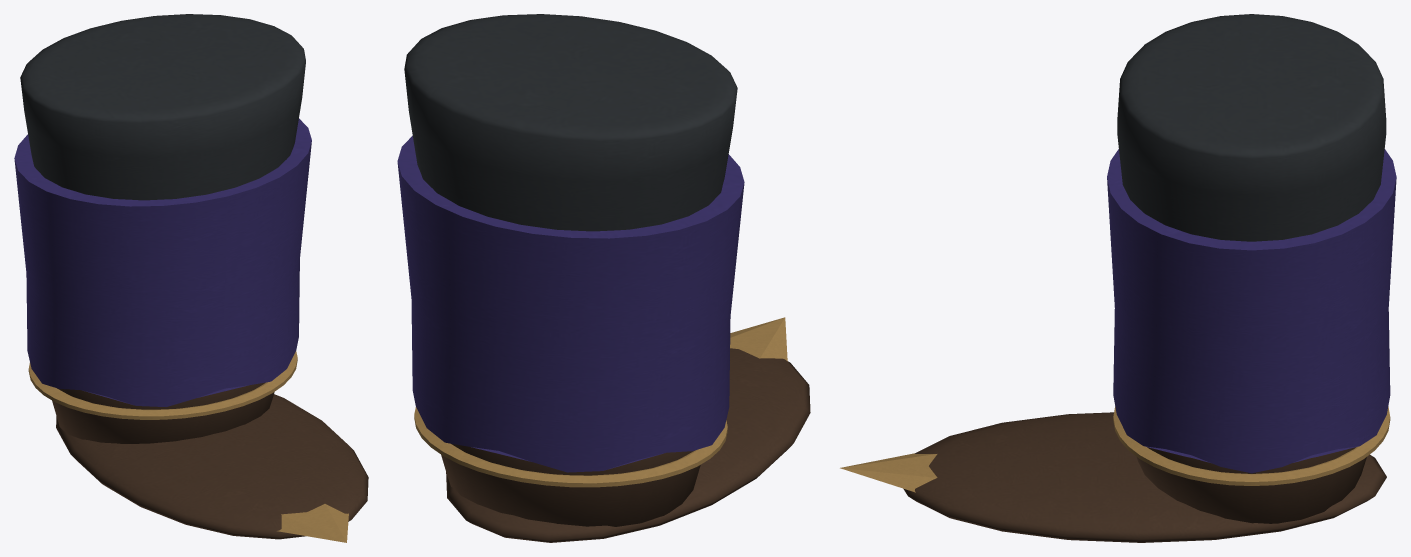
File: hero_embercaller_leg.glb
3 views of the same model, side by side, from view 1: azimuth 30°, elevation 25°; view 2: azimuth 150°, elevation 25°; view 3: azimuth 270°, elevation 25° (orthographic). The views are drawn at different scales.
Visible parts, largest first — view 1: hero_embercaller_leg ashpriest violet cloth, hero_embercaller_leg charcoal cloth, hero_embercaller_leg old leather, hero_embercaller_leg dull relic gold; view 2: hero_embercaller_leg ashpriest violet cloth, hero_embercaller_leg charcoal cloth, hero_embercaller_leg old leather, hero_embercaller_leg dull relic gold; view 3: hero_embercaller_leg ashpriest violet cloth, hero_embercaller_leg charcoal cloth, hero_embercaller_leg old leather, hero_embercaller_leg dull relic gold.
Part boxes in pixels (bbox=[...]): hero_embercaller_leg ashpriest violet cloth: bbox=[14, 118, 311, 406]; hero_embercaller_leg charcoal cloth: bbox=[20, 14, 305, 200]; hero_embercaller_leg old leather: bbox=[52, 382, 368, 539]; hero_embercaller_leg dull relic gold: bbox=[28, 351, 348, 542]; hero_embercaller_leg ashpriest violet cloth: bbox=[397, 136, 744, 472]; hero_embercaller_leg charcoal cloth: bbox=[404, 14, 737, 231]; hero_embercaller_leg old leather: bbox=[441, 348, 810, 542]; hero_embercaller_leg dull relic gold: bbox=[414, 317, 787, 487]; hero_embercaller_leg ashpriest violet cloth: bbox=[1107, 149, 1396, 473]; hero_embercaller_leg charcoal cloth: bbox=[1117, 14, 1386, 241]; hero_embercaller_leg old leather: bbox=[903, 412, 1386, 542]; hero_embercaller_leg dull relic gold: bbox=[840, 406, 1390, 492].
Bounding box in the file's own units: 0.92 × 1.22 × 1.48.
4 materials, 4 textured.
